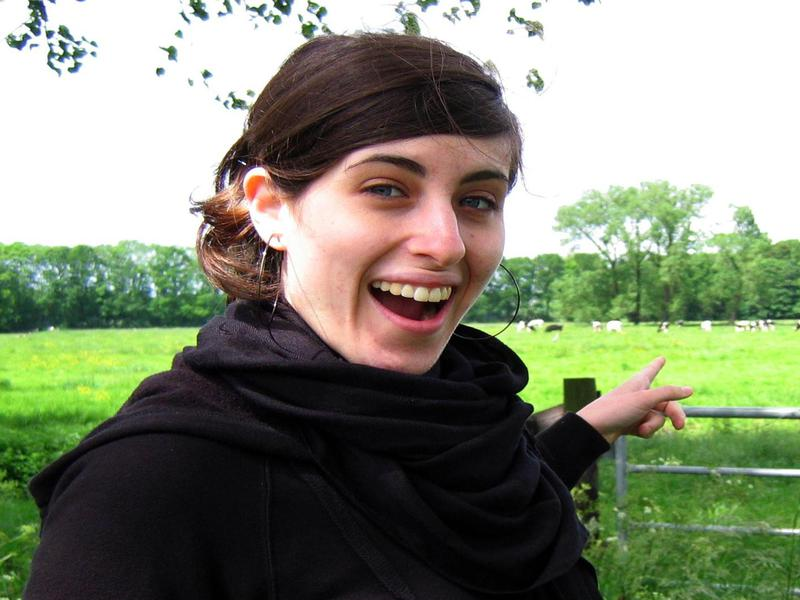person: (27, 30, 693, 600)
